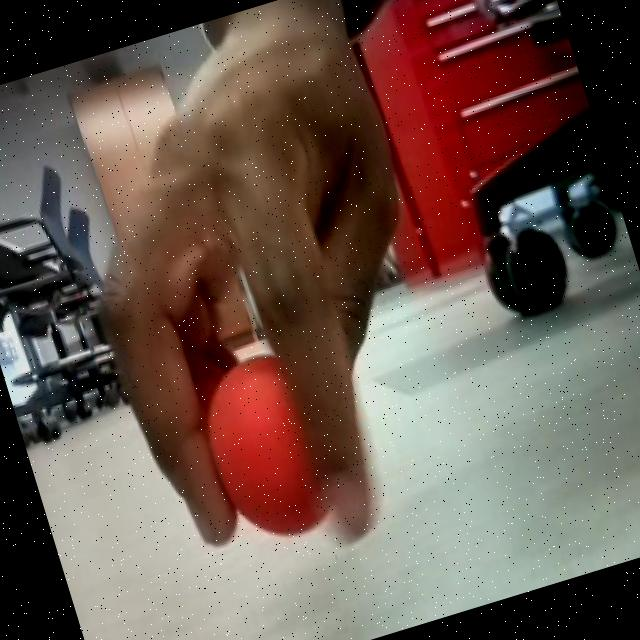ping-pong-ball: (182, 339, 340, 556)
